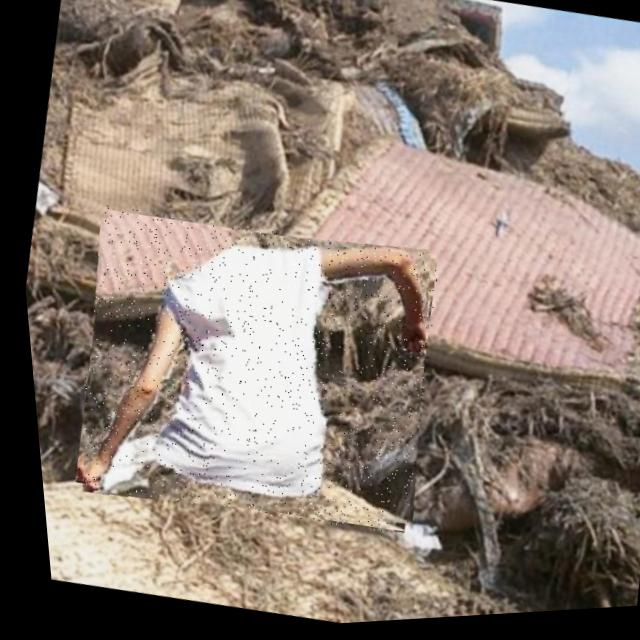Person in Rubble: (43, 191, 454, 556)
